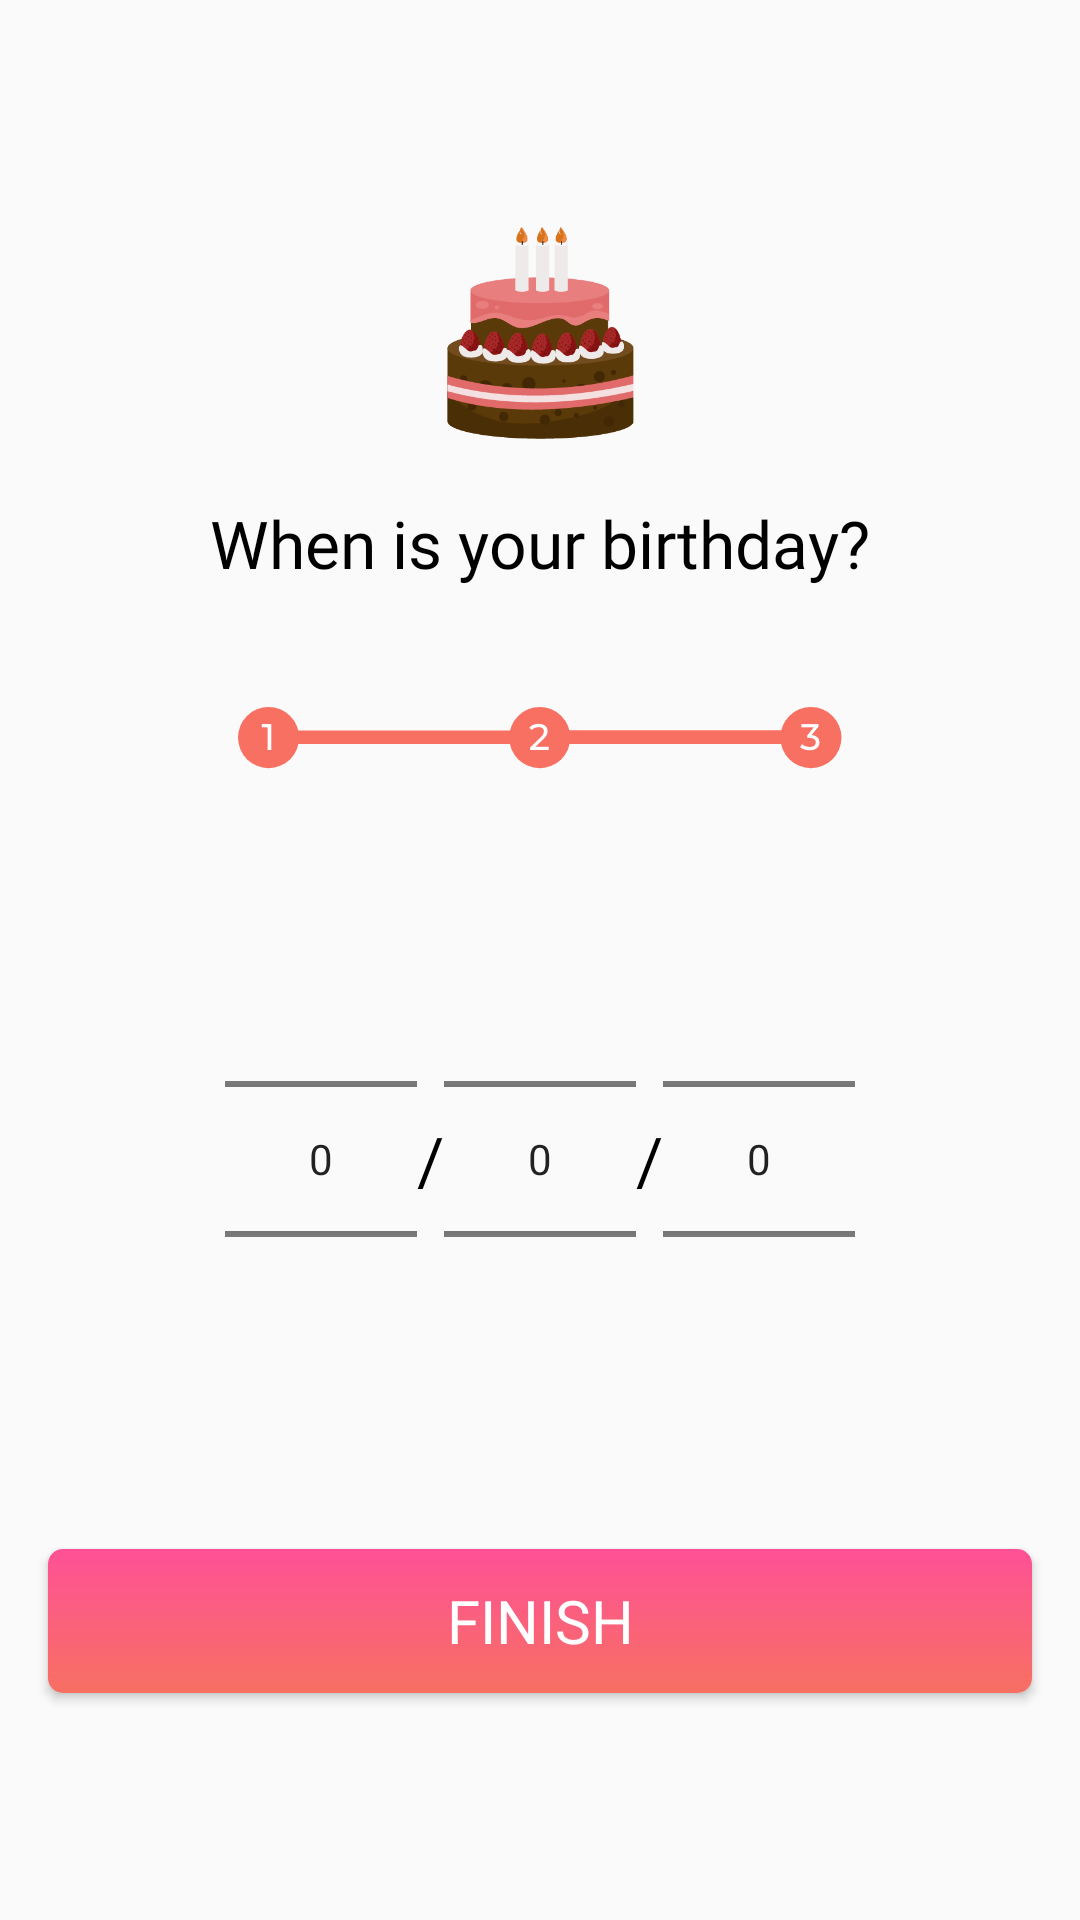

Icon bounding boxes for this 1080 x 1920 phone screenshot, format (x1, y1, x2, y2):
cake: (447, 227, 634, 439)
